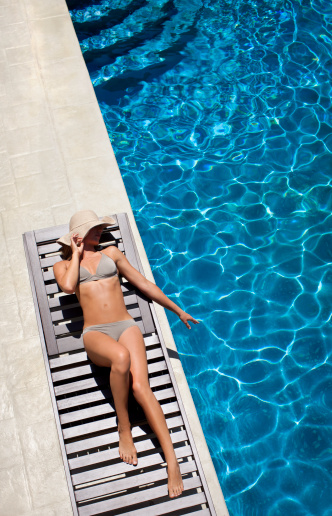deitado: (59, 191, 171, 484)
